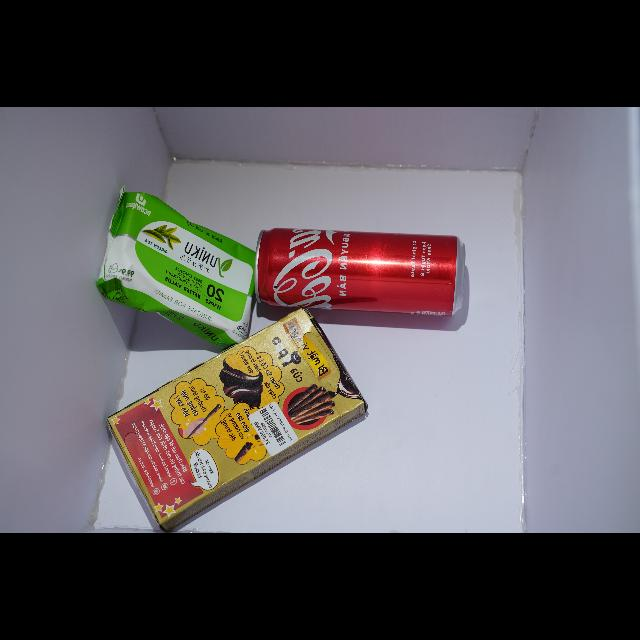banh_toppo_socola: (107, 310, 365, 531)
coca_cola: (257, 229, 464, 316)
khan_giay: (96, 190, 254, 349)
